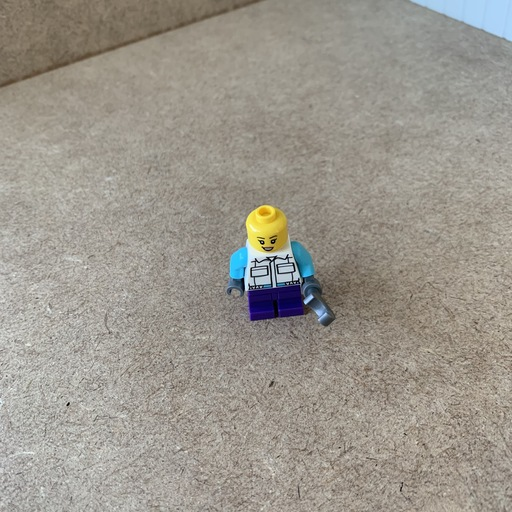human: (223, 198, 333, 336)
